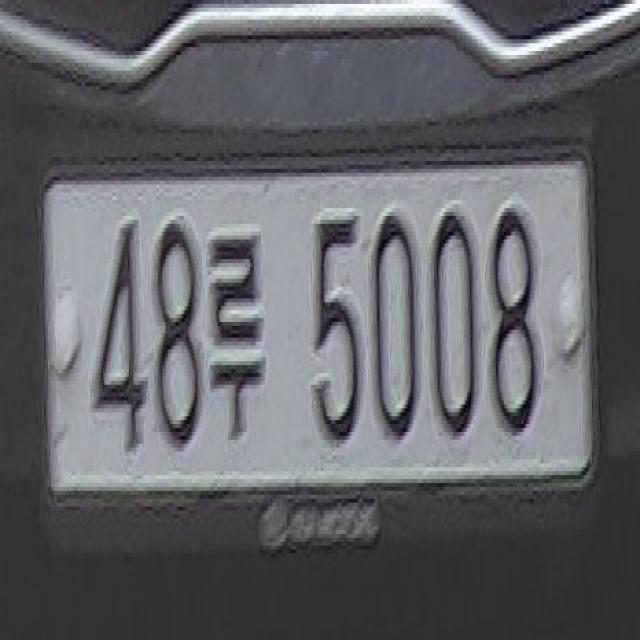0: (426, 204, 482, 454), (367, 202, 423, 448)
4: (84, 211, 148, 478)
5: (304, 195, 363, 452)
8: (487, 200, 543, 448), (150, 209, 202, 467)
license_plate: (38, 153, 604, 507)
lu: (204, 212, 265, 466)
